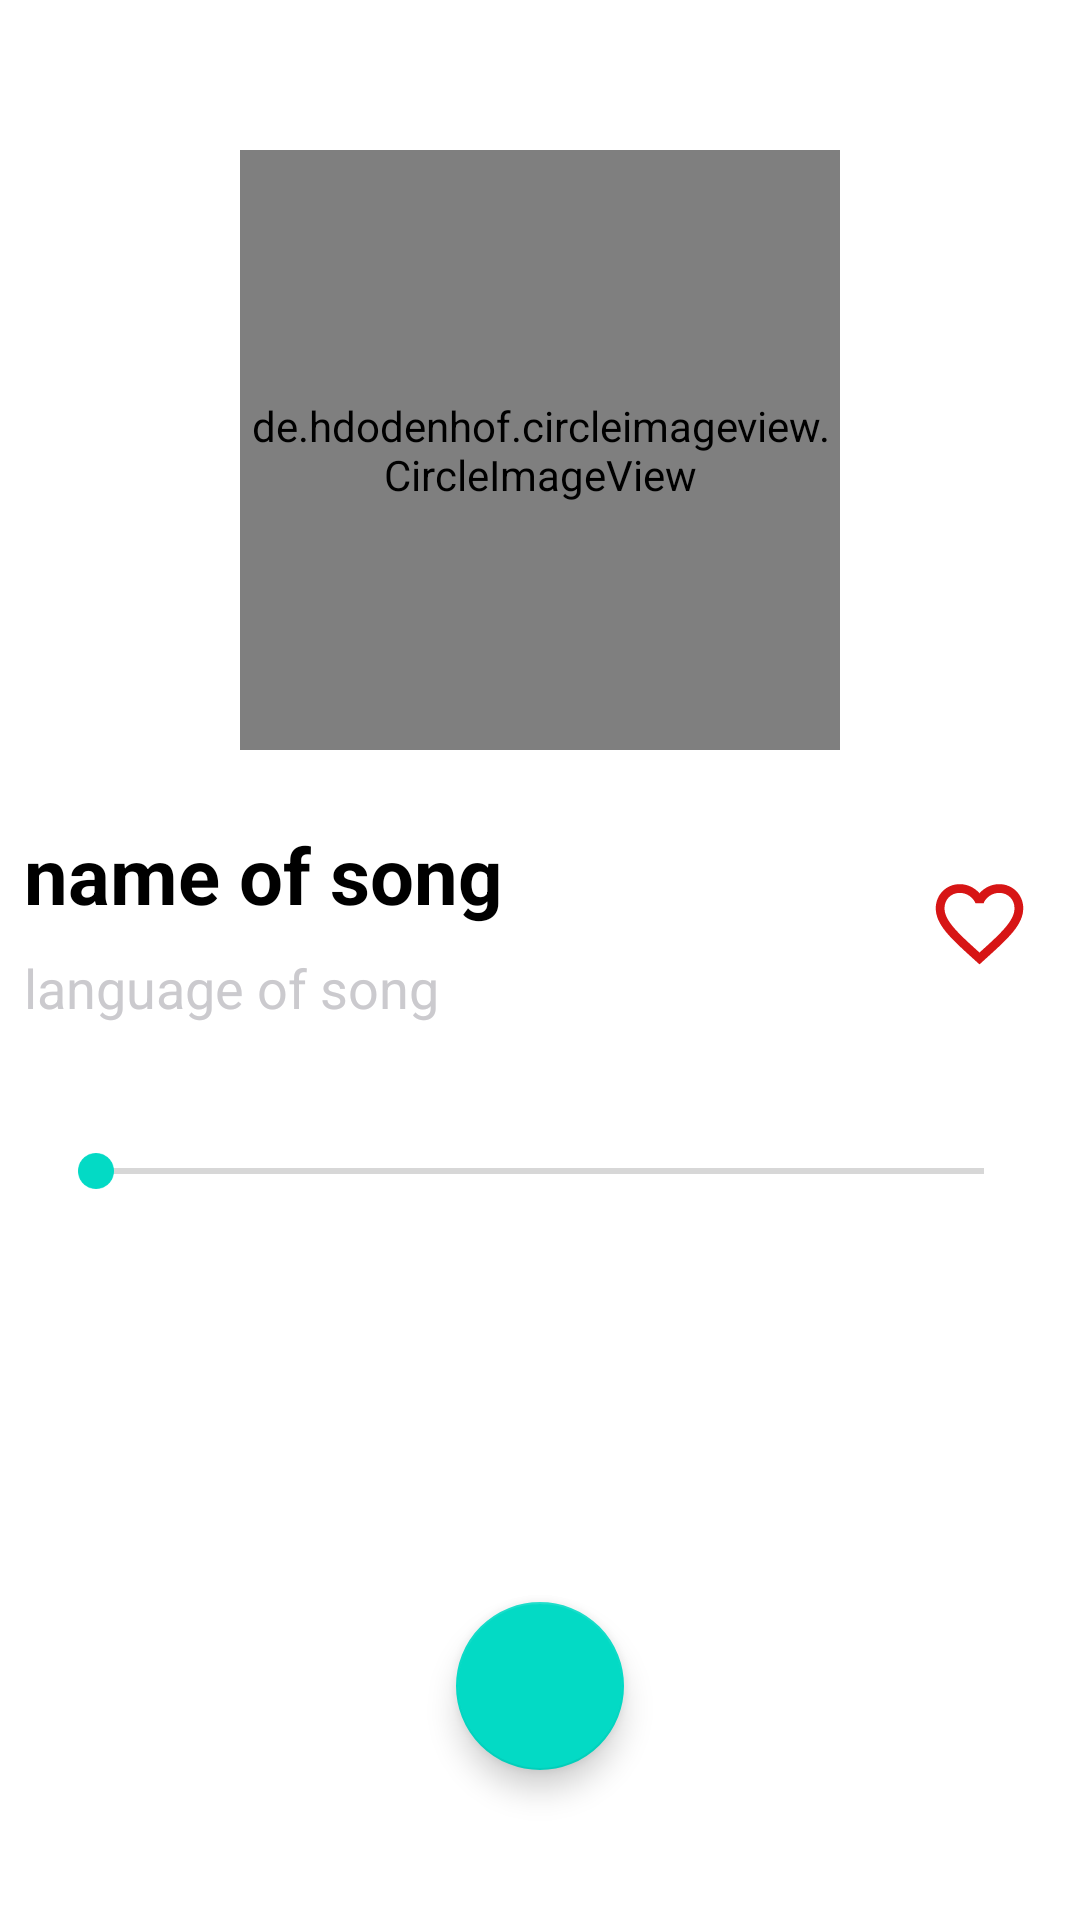

Icon click points for this 1080 × 1920 phone screenshot, format [x,y]:
favorite hollow: [979,924]
